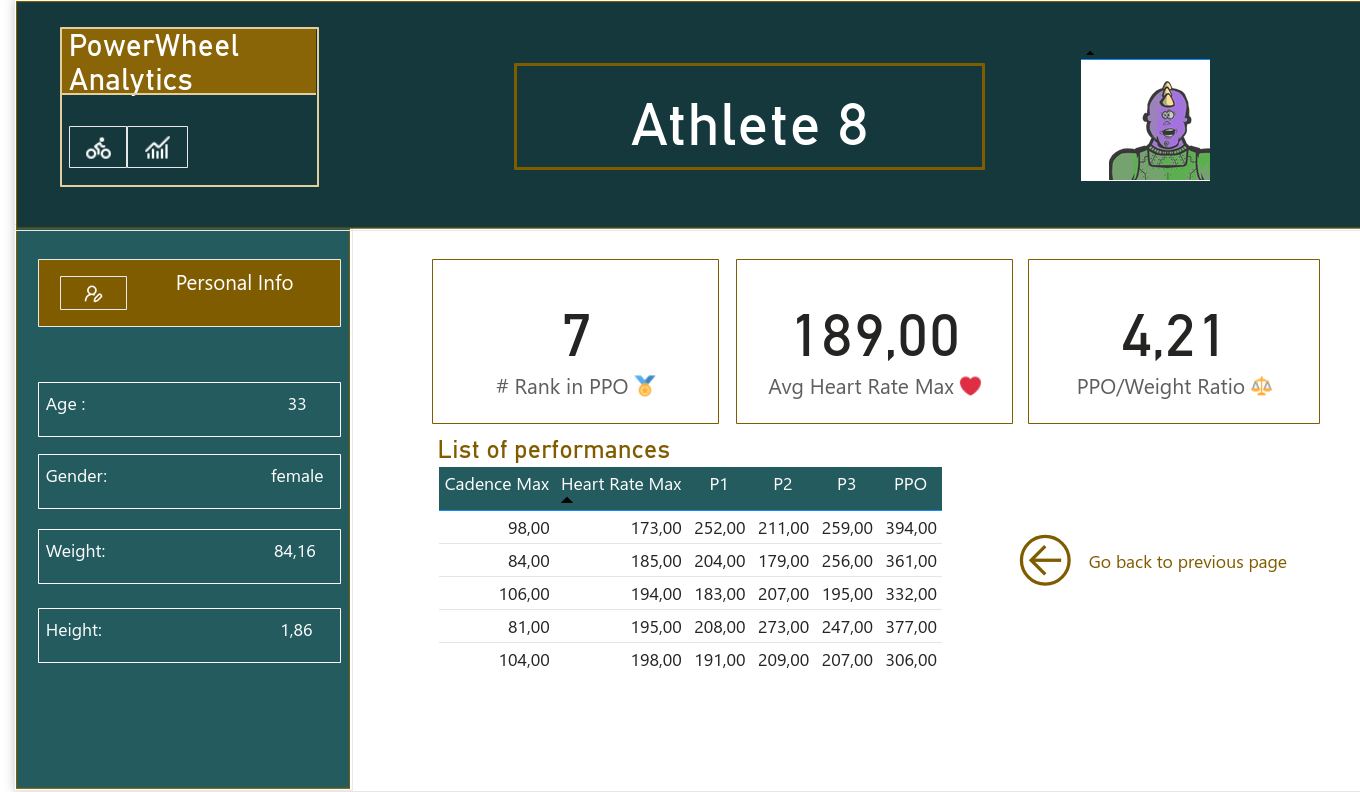

The page's visual inventory and layout, read from the dashboard file:
{"tool":"powerbi","page":{"name":"Athlete Profile","canvas":[1280,720],"ordinal":1},"visuals":[{"type":"textbox","title":"PowerWheel Analytics ","box":[42.2,25,235,145],"z":0,"group":"g2"},{"type":"shape","box":[0,204.7,307.8,515.6],"z":0},{"type":"shape","box":[0,0,1281.2,210.9],"z":1000},{"type":"image","box":[50.5,115,52.9,38.6],"z":1000,"group":"g2"},{"type":"group","id":"g1","title":"Left bar","box":[42.2,25,235.9,145.3],"z":2000},{"type":"group","id":"g2","title":"Company Logo","box":[42.2,25,235,145],"z":2000,"group":"g1"},{"type":"image","box":[103.4,115,55.7,38.6],"z":2000,"group":"g2"},{"type":"actionButton","box":[907.8,481.2,253.1,59.4],"z":3000},{"type":"card","fields":{"Values":["Min(athlete.Name)"]},"box":[454.7,57.8,428.1,96.9],"z":4000},{"type":"textbox","box":[21.7,236.7,275,61.7],"z":5000},{"type":"image","box":[42.2,251.6,60.9,31.2],"z":6000},{"type":"textbox","box":[21.7,348.3,275,50],"z":7000},{"type":"textbox","box":[21.7,413.3,275,50],"z":8000},{"type":"textbox","box":[21.7,481.7,275,50],"z":9000},{"type":"textbox","box":[21.7,553.3,275,50],"z":10000},{"type":"tableEx","title":"List of performances ","fields":{"Values":["performance.Cadence_max","performance.Hr_max","performance.P1","performance.P2","performance.P3","performance.PPO"]},"box":[379.7,398.4,501.6,293.8],"z":11000},{"type":"card","fields":{"Values":["performance.Avg_HRMax"]},"box":[656.2,235.9,251.6,150],"z":12000},{"type":"card","fields":{"Values":["Sum(SummarizedPerformanceWithRank.Rank_PPO)"]},"box":[379.7,235.9,260.9,150],"z":13000},{"type":"card","fields":{"Values":["performance.PPO_Weight_Ratio"]},"box":[921.9,235.9,265.6,150],"z":14000},{"type":"tableEx","fields":{"Values":["athlete.Profile_Pic_URL"]},"box":[964.1,25,139.1,178.1],"z":15000}]}

Visuals, with their boxes on the page's 1280x720 design canvas (x1, y1, x2, y2). These are canvas units, not pixel positions in the 1360x792 screenshot, which may show the page scaled, cropped or inside an application window:
"PowerWheel Analytics " textbox: <region>42, 25, 277, 170</region>
shape: <region>0, 205, 308, 720</region>
shape: <region>0, 0, 1281, 211</region>
image: <region>50, 115, 103, 154</region>
"Left bar" group: <region>42, 25, 278, 170</region>
"Company Logo" group: <region>42, 25, 277, 170</region>
image: <region>103, 115, 159, 154</region>
actionButton: <region>908, 481, 1161, 541</region>
card - Min(athlete.Name): <region>455, 58, 883, 155</region>
textbox: <region>22, 237, 297, 298</region>
image: <region>42, 252, 103, 283</region>
textbox: <region>22, 348, 297, 398</region>
textbox: <region>22, 413, 297, 463</region>
textbox: <region>22, 482, 297, 532</region>
textbox: <region>22, 553, 297, 603</region>
"List of performances " tableEx: <region>380, 398, 881, 692</region>
card - performance.Avg_HRMax: <region>656, 236, 908, 386</region>
card - Sum(SummarizedPerformanceWithRank.Rank_PPO): <region>380, 236, 641, 386</region>
card - performance.PPO_Weight_Ratio: <region>922, 236, 1188, 386</region>
tableEx - athlete.Profile_Pic_URL: <region>964, 25, 1103, 203</region>
